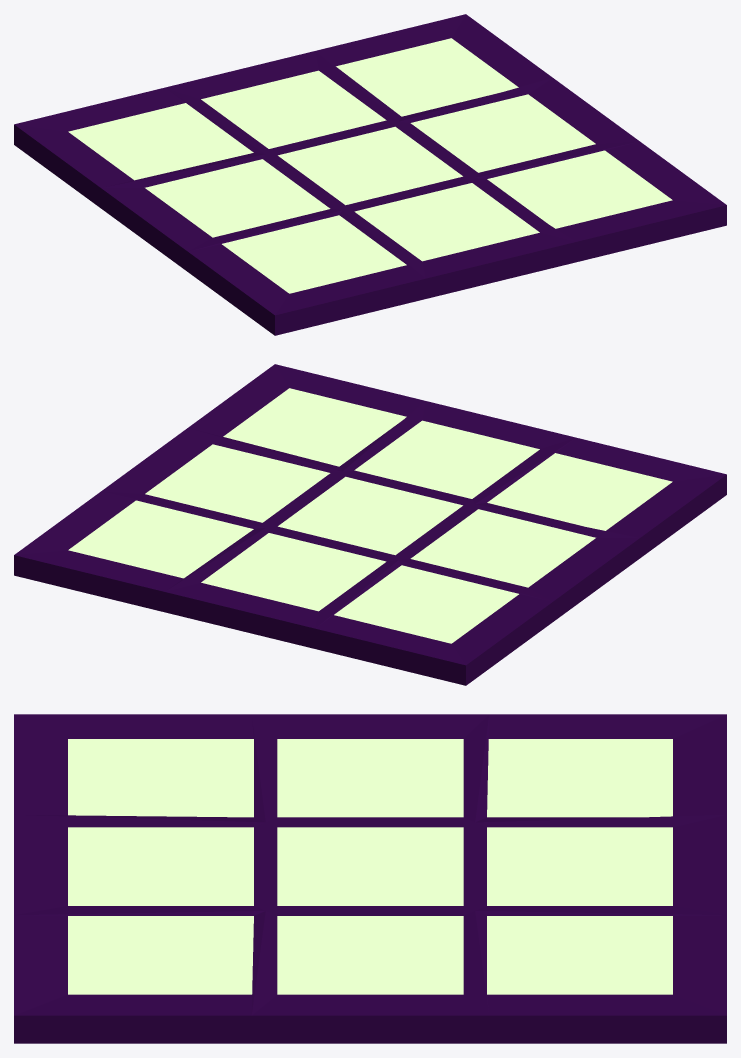
The model's file is Grid_AssestsConcert.fbx.
The picture shows the model from 3 angles, top to bottom: view 1: azimuth 30°, elevation 25°; view 2: azimuth 150°, elevation 25°; view 3: azimuth 270°, elevation 25°; orthographic projection. The views are drawn at different scales.
Parts seen in each view (by area): view 1: Grid; view 2: Grid; view 3: Grid.
Boxes of the visible parts, x1=… form: Grid: x1=14, y1=14, x2=726, y2=335; Grid: x1=14, y1=364, x2=726, y2=685; Grid: x1=14, y1=714, x2=726, y2=1043.
Bounding box in the file's own units: 1313 × 56.72 × 1313.
